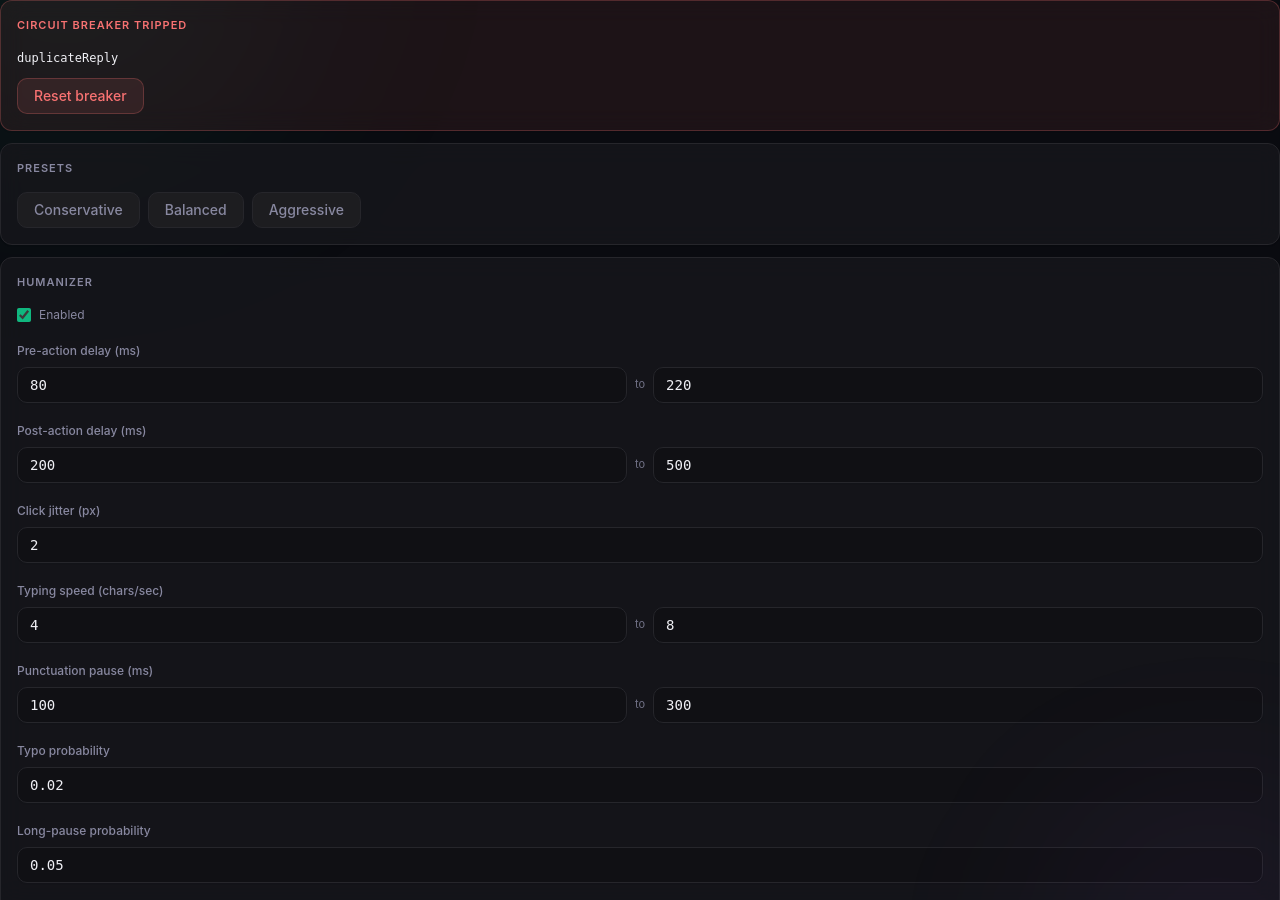
Test: AntiDetectionSettings — breaker banner › shows the banner when tripped, and Reset breaker re-fetches the snapshot
The image size is (1280, 900).
Expected: the element with test id "policy-breaker-banner" is shown, [0, 0, 1279, 130]
Click the button with test id "policy-reset-breaker": {"x": 80, "y": 96} [17, 78, 144, 114]
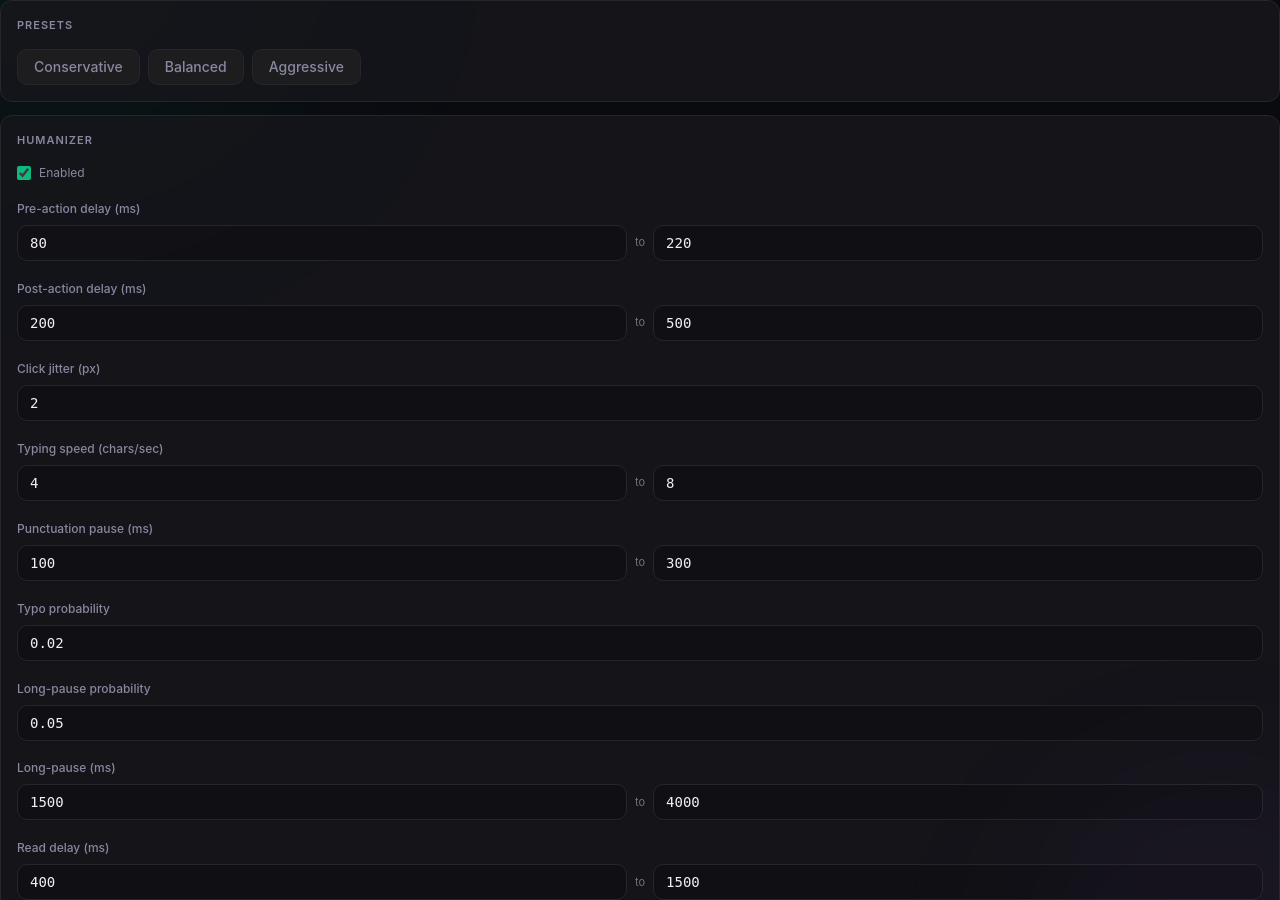
Result: the element with test id "policy-breaker-banner" is gone
